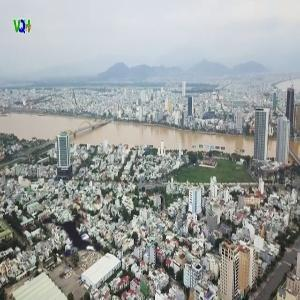drone: (14, 183, 131, 300)
